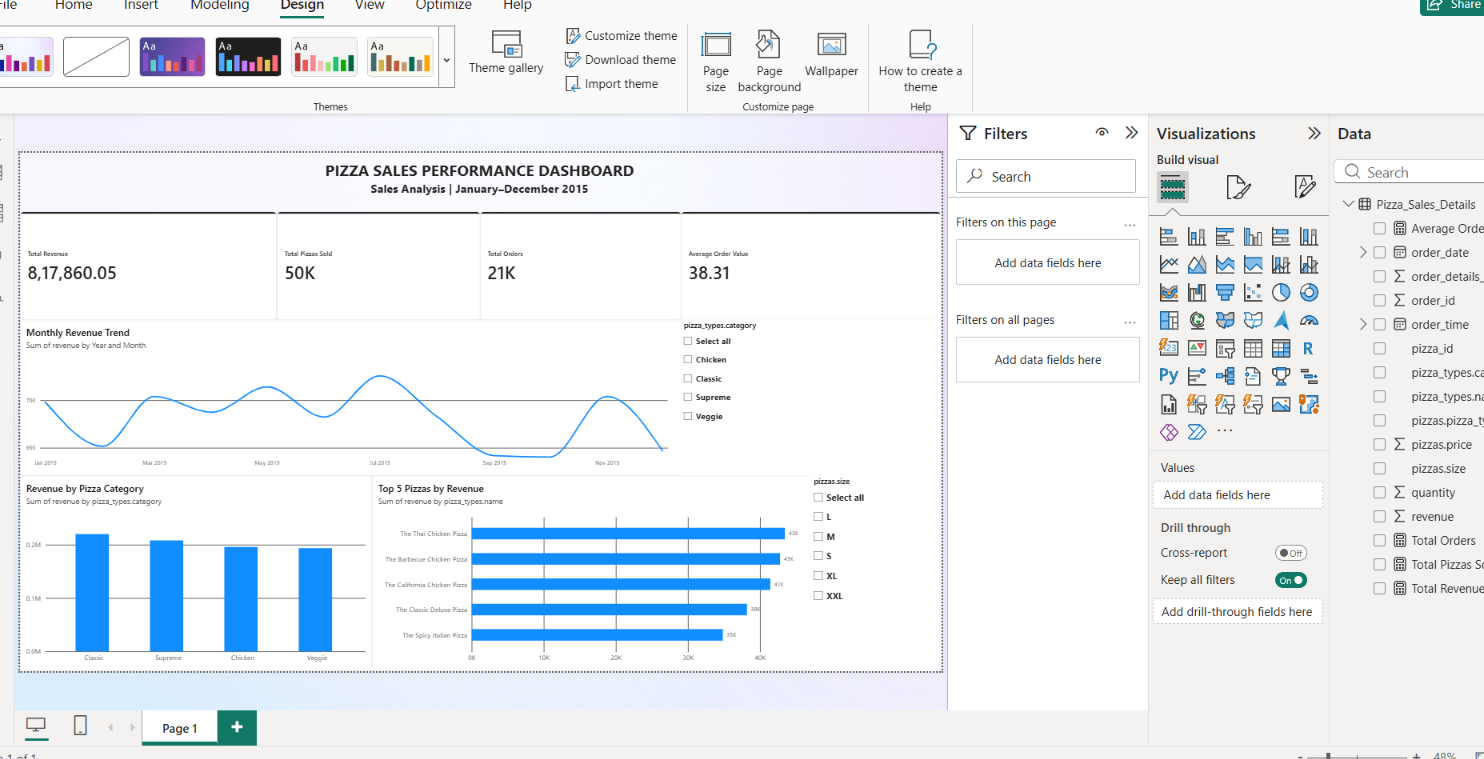

This screenshot's page, from the dashboard's own definition file:
{"tool":"powerbi","page":{"name":"Page 1","canvas":[1920,1080],"ordinal":0},"visuals":[{"type":"cardVisual","fields":{"Data":["Pizza_Sales_Details.Total Revenue"]},"box":[0,122.2,535.6,226.7],"z":0},{"type":"cardVisual","fields":{"Data":["Pizza_Sales_Details.Total Pizzas Sold"]},"box":[535.6,122.2,424.4,226.7],"z":1},{"type":"cardVisual","fields":{"Data":["Pizza_Sales_Details.Total Orders"]},"box":[957.8,122.2,420,226.7],"z":2},{"type":"cardVisual","fields":{"Data":["Pizza_Sales_Details.Average Order Value"]},"box":[1377.8,122.2,542.2,226.7],"z":3},{"type":"lineChart","title":"Monthly Revenue Trend","fields":{"Category":["Pizza_Sales_Details.order_date.Variation.Date Hierarchy.Year","Pizza_Sales_Details.order_date.Variation.Date Hierarchy.Month"],"Y":["Sum(Pizza_Sales_Details.revenue)"]},"box":[0,348.9,1377.8,324.4],"z":4},{"type":"clusteredColumnChart","title":"Revenue by Pizza Category","fields":{"Category":["Pizza_Sales_Details.pizza_types.category"],"Y":["Sum(Pizza_Sales_Details.revenue)"]},"box":[0,673.3,733.3,406.7],"z":5},{"type":"barChart","title":"Top 5 Pizzas by Revenue","fields":{"Category":["Pizza_Sales_Details.pizza_types.name"],"Y":["Sum(Pizza_Sales_Details.revenue)"]},"box":[733.3,673.3,913.3,406.7],"z":6},{"type":"textbox","box":[0,15.6,1915.6,93.3],"z":7},{"type":"slicer","fields":{"Values":["Pizza_Sales_Details.pizza_types.category"]},"box":[1375.6,348.9,542.2,324.4],"z":8},{"type":"slicer","fields":{"Values":["Pizza_Sales_Details.pizzas.size"]},"box":[1646.7,673.3,268.9,406.7],"z":9}]}

Visuals, with their boxes on the page's 1920x1080 design canvas (x1, y1, x2, y2). These are canvas units, not pixel positions in the 1484x759 screenshot, which may show the page scaled, cropped or inside an application window:
cardVisual - Pizza_Sales_Details.Total Revenue: 0, 122, 536, 349
cardVisual - Pizza_Sales_Details.Total Pizzas Sold: 536, 122, 960, 349
cardVisual - Pizza_Sales_Details.Total Orders: 958, 122, 1378, 349
cardVisual - Pizza_Sales_Details.Average Order Value: 1378, 122, 1920, 349
"Monthly Revenue Trend" lineChart: 0, 349, 1378, 673
"Revenue by Pizza Category" clusteredColumnChart: 0, 673, 733, 1080
"Top 5 Pizzas by Revenue" barChart: 733, 673, 1647, 1080
textbox: 0, 16, 1916, 109
slicer - Pizza_Sales_Details.pizza_types.category: 1376, 349, 1918, 673
slicer - Pizza_Sales_Details.pizzas.size: 1647, 673, 1916, 1080
